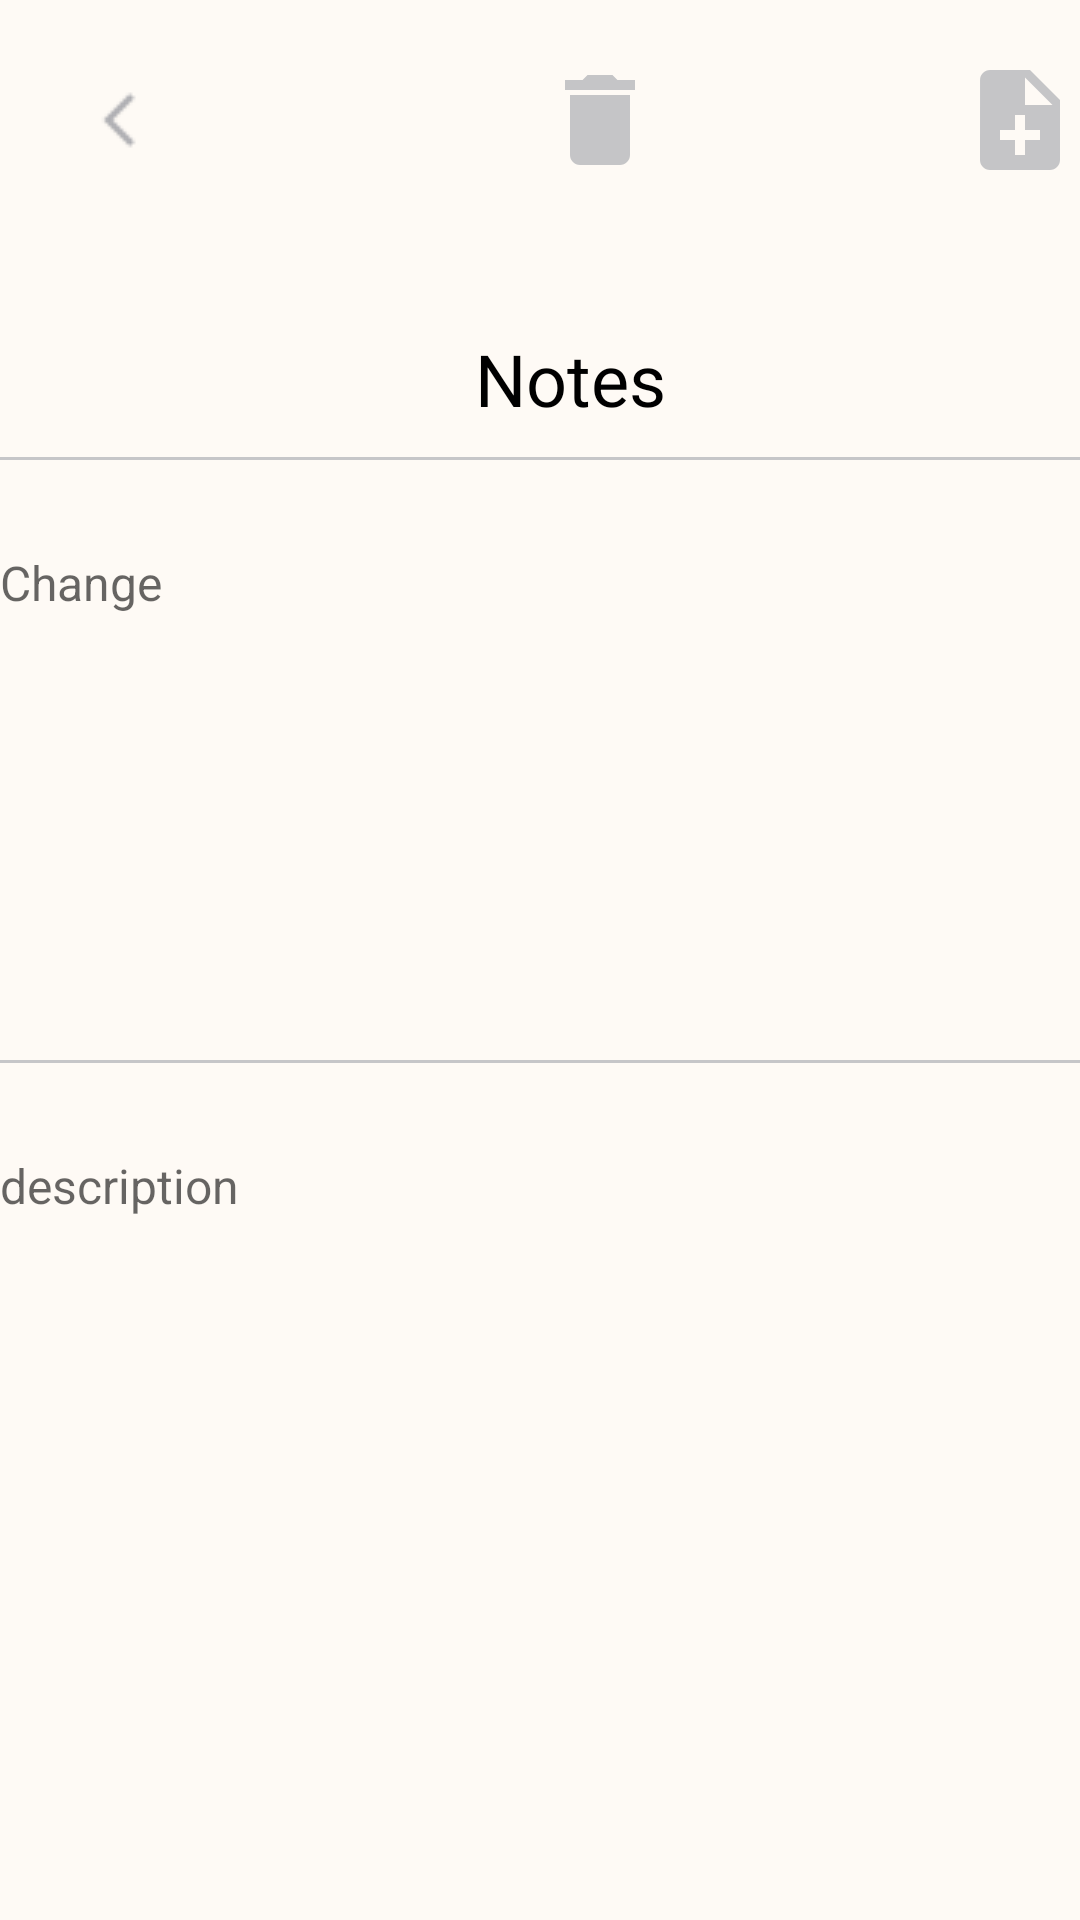

Screen size 1080 × 1920. Icon name, then its center in pixels as (x,y):
add notes: (1020,120)
back: (119,120)
